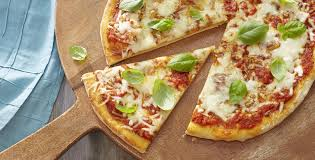pizza: (74, 49, 257, 135)
